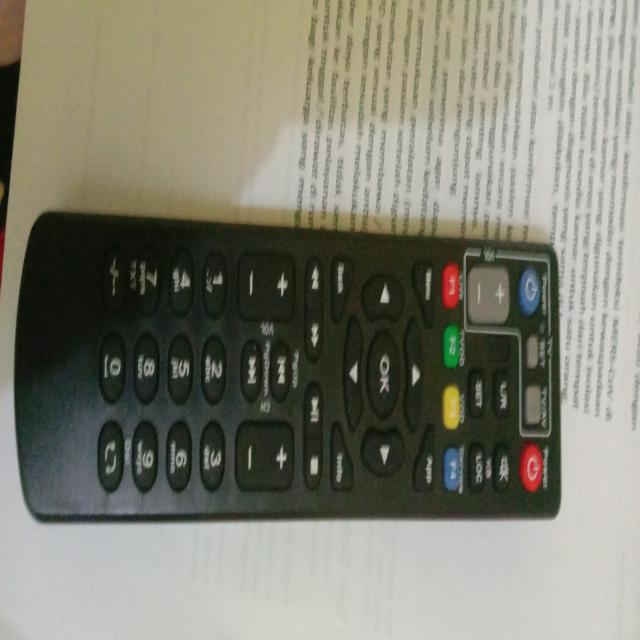remote: (0, 205, 563, 530)
